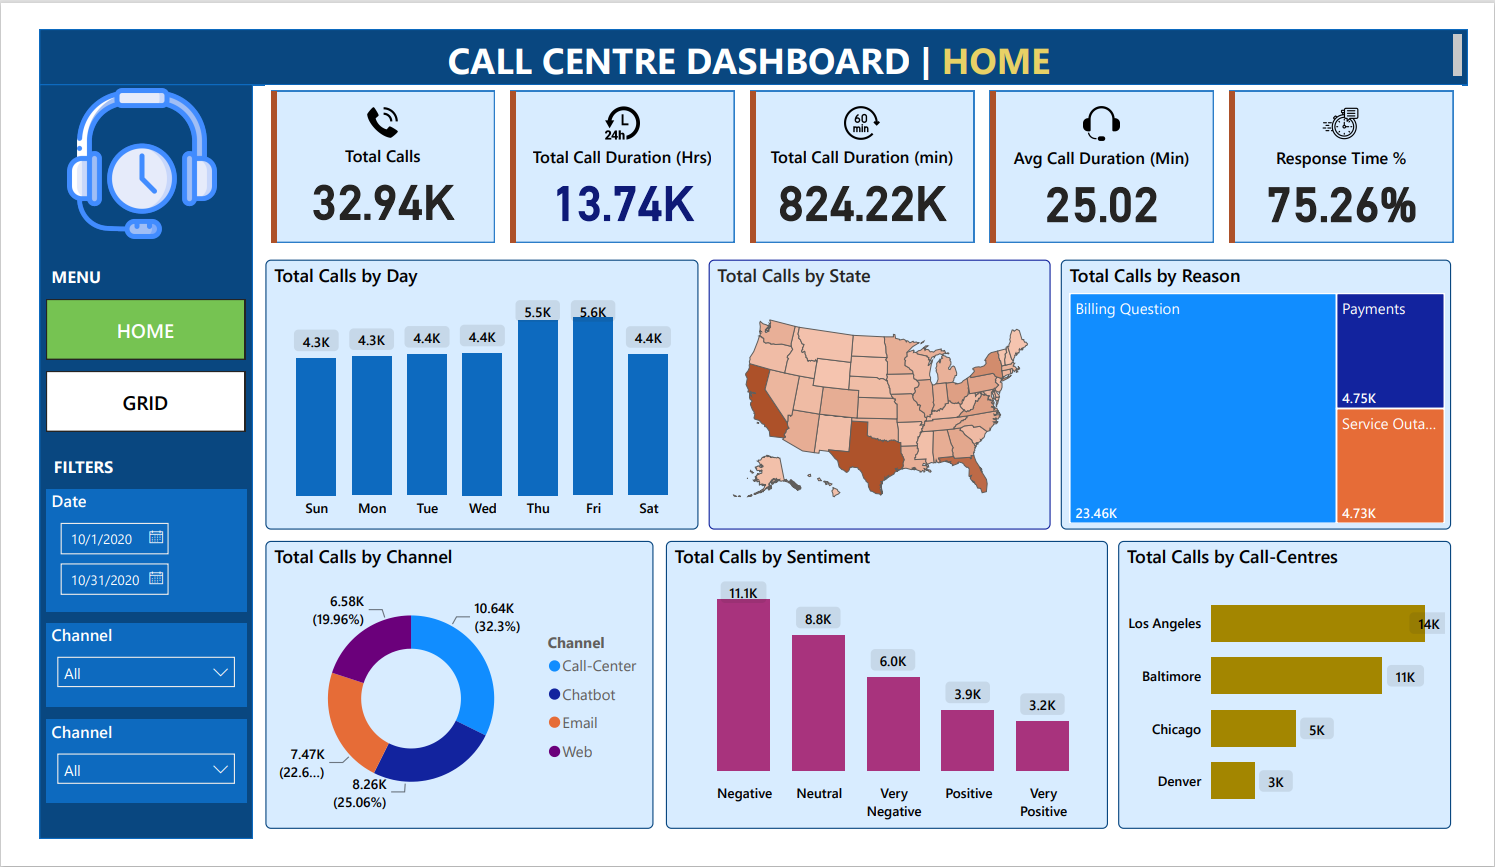

The page's visual inventory and layout, read from the dashboard file:
{"tool":"powerbi","page":{"name":"HOME","canvas":[1280,720],"ordinal":0},"visuals":[{"type":"shape","box":[9.6,0,1270.7,50],"z":0},{"type":"shape","box":[9.8,48.9,189.9,671.6],"z":1000},{"type":"cardVisual","fields":{"Data":["Call Center_Call Center.Total Calls","Call Center_Call Center.Total Call Duration (Hrs)","Call Center_Call Center.Total Call Duration (min)","Call Center_Call Center.Avg Call Duration (Min)","Call Center_Call Center.Response Time %"]},"box":[210.8,50.3,1063.9,145.2],"z":2000},{"type":"textbox","box":[9.8,0,1270.5,50.3],"z":3000},{"type":"columnChart","fields":{"Category":["Date Table.Day"],"Y":["Call Center_Call Center.Total Calls"]},"box":[210.8,205.2,385.3,240.1],"z":4000},{"type":"treemap","fields":{"Group":["Call Center_Call Center.Reason"],"Values":["Call Center_Call Center.Total Calls"]},"box":[917.8,205,347.3,240],"z":5000},{"type":"donutChart","fields":{"Category":["Call Center_Call Center.Channel"],"Y":["Call Center_Call Center.Total Calls"]},"box":[211.4,455,344.6,255.8],"z":6000},{"type":"columnChart","fields":{"Category":["Call Center_Call Center.Sentiment"],"Y":["Call Center_Call Center.Total Calls"]},"box":[566.8,455,393.1,255.8],"z":7000},{"type":"barChart","fields":{"Category":["Call Center_Call Center.Call-Centres City"],"Y":["Call Center_Call Center.Total Calls"]},"box":[969.3,455,296.2,255.8],"z":8000},{"type":"slicer","title":"Date","fields":{"Values":["Date Table.Date"]},"box":[16.2,409.3,177.7,109],"z":9000},{"type":"slicer","title":"Channel","fields":{"Values":["Call Center_Call Center.Channel"]},"box":[16.2,527.7,177.7,74],"z":10000},{"type":"slicer","title":"Channel","fields":{"Values":["Call Center_Call Center.City"]},"box":[16.2,613.9,177.7,74],"z":11000},{"type":"image","box":[8.1,48.5,185.8,142.7],"z":12000},{"type":"pageNavigator","box":[16.2,239.6,177.7,119.8],"z":13000},{"type":"textbox","box":[16.2,204.6,83.5,35],"z":14000},{"type":"textbox","box":[17.5,374.3,83.5,35],"z":15000},{"type":"shapeMap","fields":{"Category":["Call Center_Call Center.State"],"Value":["Call Center_Call Center.Total Calls"]},"box":[605.4,205,303.9,240],"z":15001}]}

Visuals, with their boxes on the page's 1280x720 design canvas (x1, y1, x2, y2). These are canvas units, not pixel positions in the 1495x867 screenshot, which may show the page scaled, cropped or inside an application window:
shape: [10, 0, 1280, 50]
shape: [10, 49, 200, 720]
cardVisual - Call Center_Call Center.Total Calls x Call Center_Call Center.Total Call Duration (Hrs): [211, 50, 1275, 196]
textbox: [10, 0, 1280, 50]
columnChart - Date Table.Day x Call Center_Call Center.Total Calls: [211, 205, 596, 445]
treemap - Call Center_Call Center.Reason x Call Center_Call Center.Total Calls: [918, 205, 1265, 445]
donutChart - Call Center_Call Center.Channel x Call Center_Call Center.Total Calls: [211, 455, 556, 711]
columnChart - Call Center_Call Center.Sentiment x Call Center_Call Center.Total Calls: [567, 455, 960, 711]
barChart - Call Center_Call Center.Call-Centres City x Call Center_Call Center.Total Calls: [969, 455, 1266, 711]
"Date" slicer: [16, 409, 194, 518]
"Channel" slicer: [16, 528, 194, 602]
"Channel" slicer: [16, 614, 194, 688]
image: [8, 48, 194, 191]
pageNavigator: [16, 240, 194, 359]
textbox: [16, 205, 100, 240]
textbox: [18, 374, 101, 409]
shapeMap - Call Center_Call Center.State x Call Center_Call Center.Total Calls: [605, 205, 909, 445]
